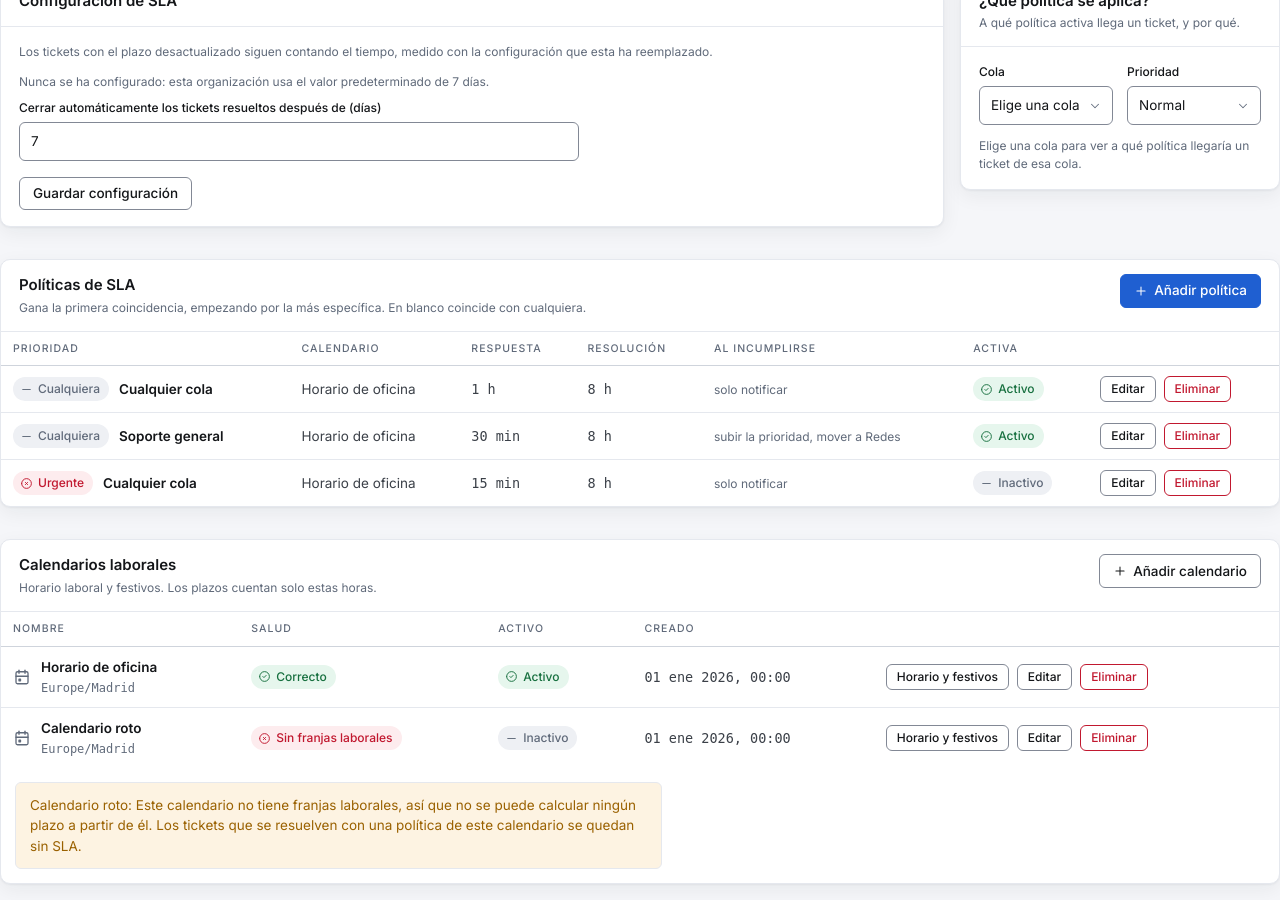
Test: a calendar's hours and holidays in Spanish › words the week grid, the midnight window and the holidays
This screenshot has width=1280, height=900.
(page scrolled)
Click the button "Horario y festivos" in the row of "Correcto" at (947, 677), box [886,664,1009,690]
(page scrolled)
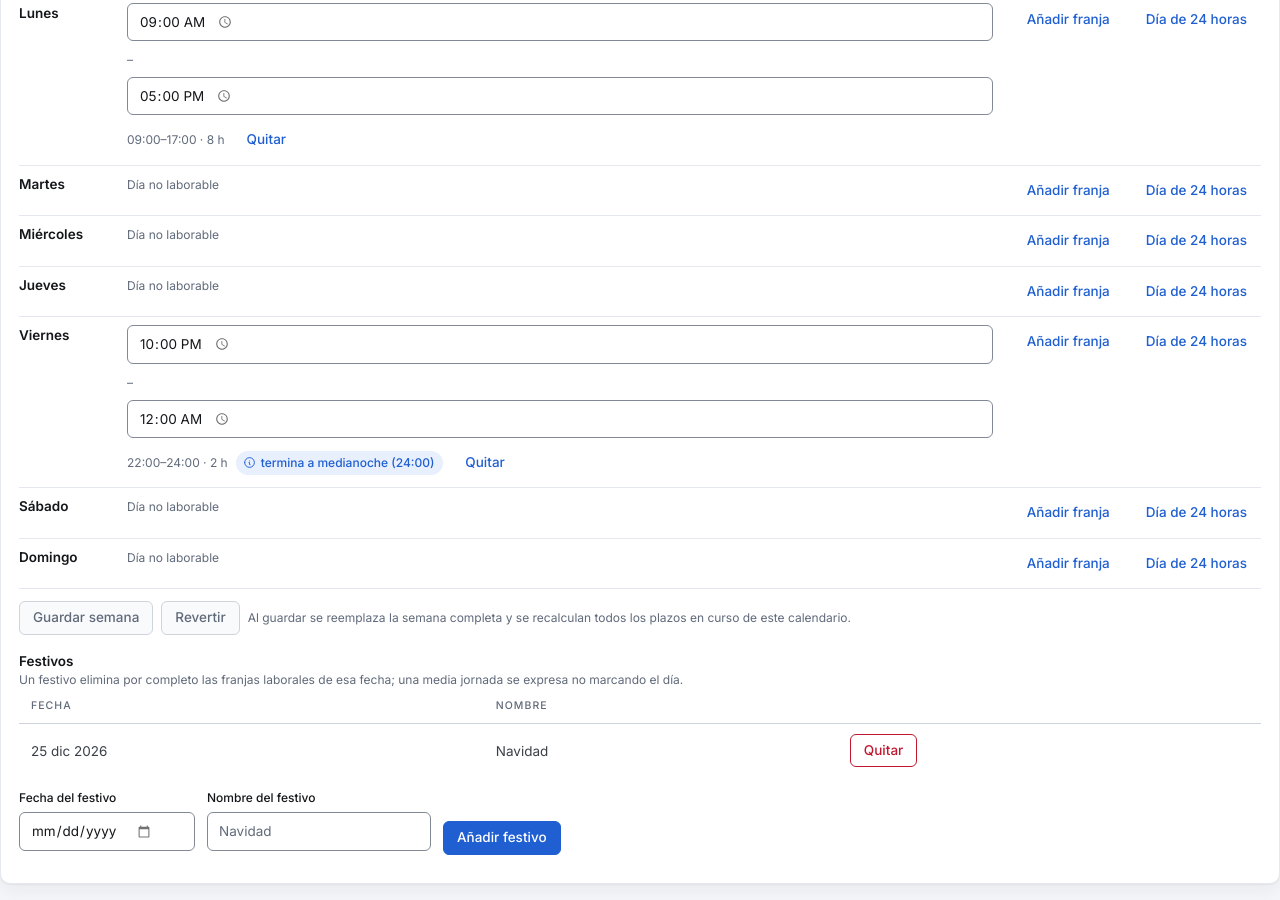
Now the text "Lunes" is shown, box [19,5,59,21]
Now the text "Martes" is shown, box [19,176,65,192]
Now the text "Miércoles" is shown, box [19,226,83,242]
